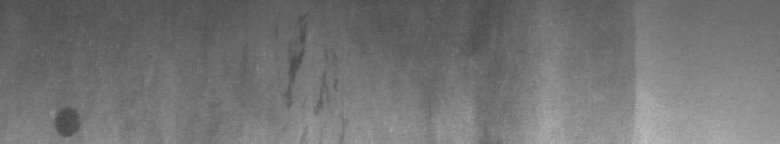fi: (49, 101, 86, 136)
